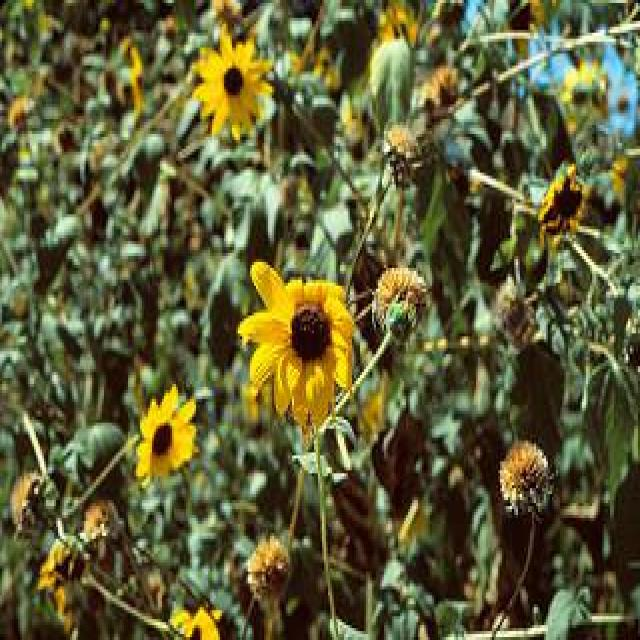sunflower: (238, 259, 354, 423), (193, 25, 273, 142), (134, 384, 198, 480), (540, 165, 583, 239), (564, 65, 594, 108), (180, 610, 222, 640)
